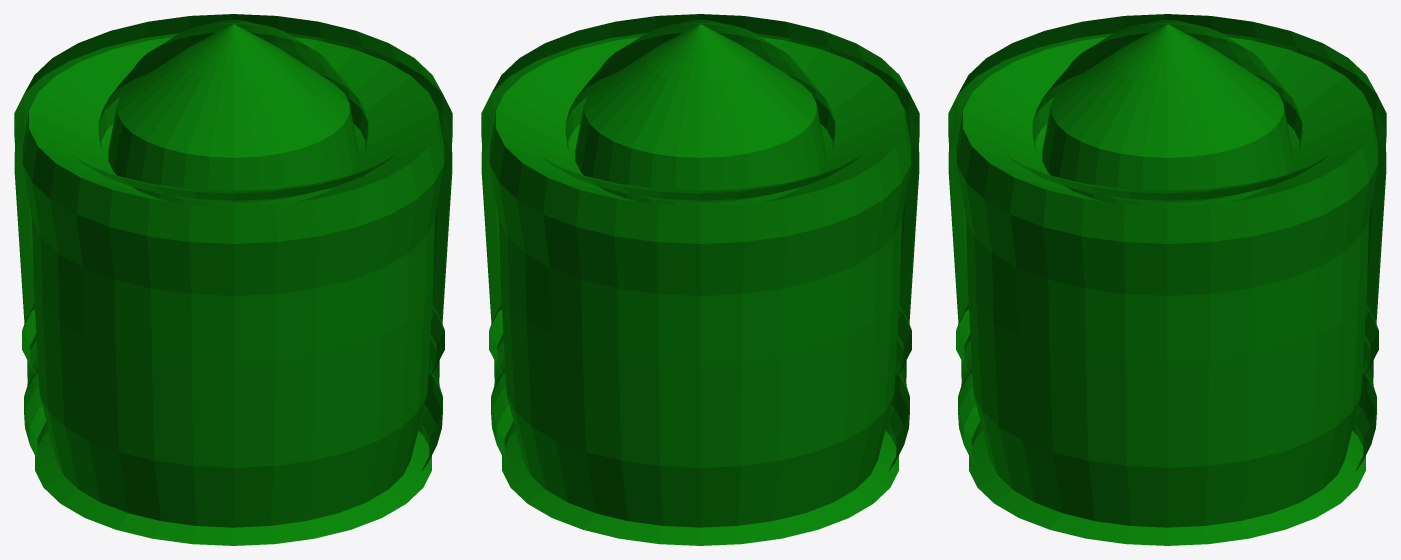
3 renders of one model, left to right at view 1: azimuth 30°, elevation 25°; view 2: azimuth 150°, elevation 25°; view 3: azimuth 270°, elevation 25°, orthographic.
Parts seen in each view (by area): view 1: algeomath; view 2: algeomath; view 3: algeomath.
Part boxes in pixels (x1,y1,x2,y2): algeomath: (14, 14, 452, 545); algeomath: (481, 14, 919, 545); algeomath: (948, 14, 1386, 545).
Bounding box in the file's own units: 3.54 × 3.87 × 3.52.
